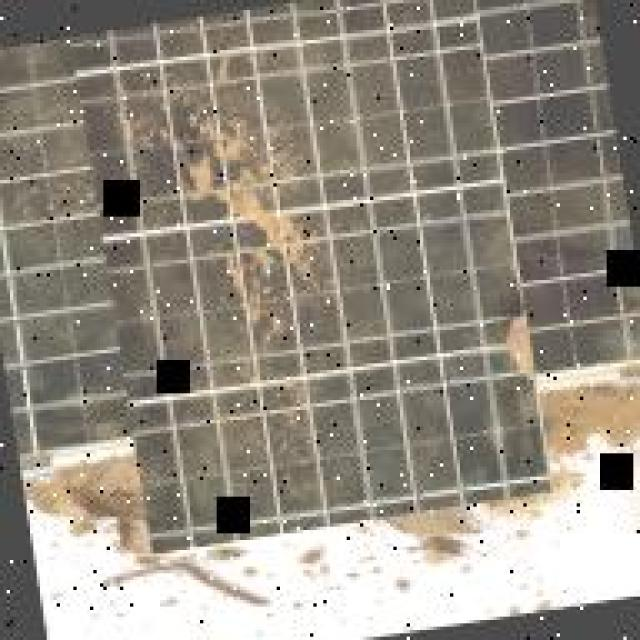dust-solar-panel: (0, 0, 640, 548)
